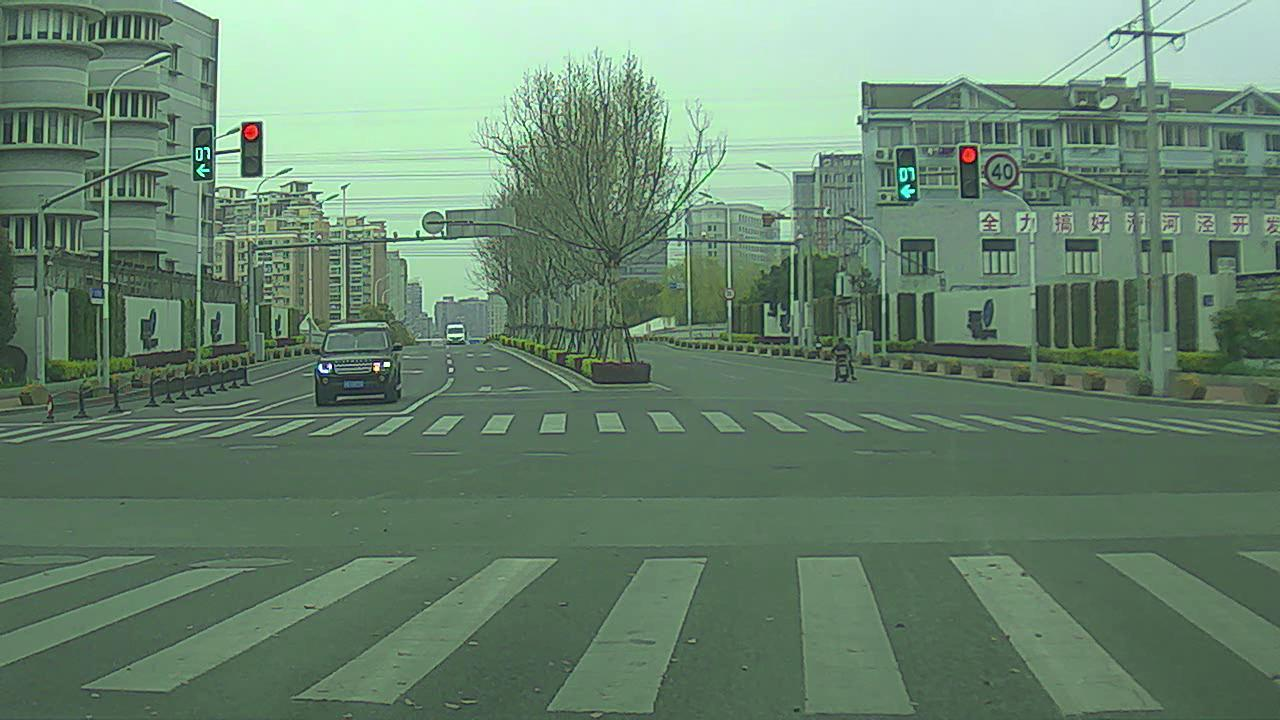traffic_light: (187, 123, 218, 183), (894, 145, 922, 203), (959, 141, 983, 202), (241, 123, 265, 183)
